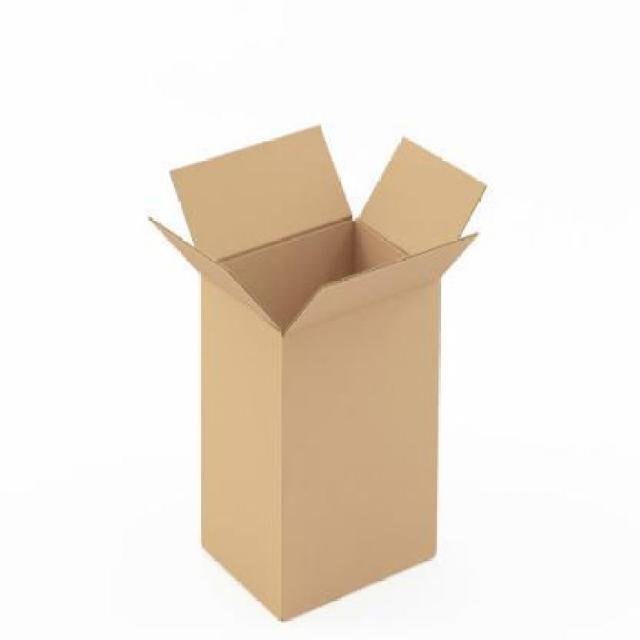box: (146, 125, 488, 623)
opened: (148, 127, 489, 336)
